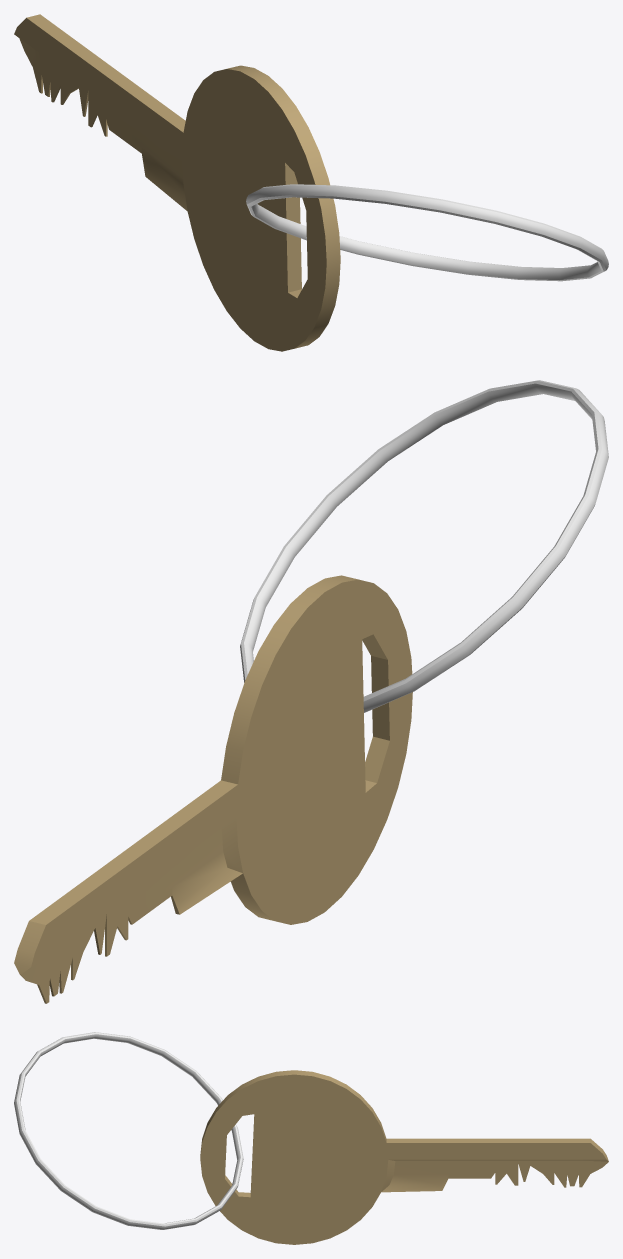
Rendered from chave.fbx.
3 renders of one model, top to bottom at view 1: azimuth 30°, elevation 25°; view 2: azimuth 150°, elevation 25°; view 3: azimuth 270°, elevation 25°, orthographic. The views are drawn at different scales.
Parts seen in each view (by area): view 1: Circle; view 2: Circle; view 3: Circle.
Part boxes in pixels (x1,y1,x2,y2): Circle: (14, 14, 608, 351); Circle: (14, 380, 608, 1003); Circle: (14, 1032, 608, 1244).
Bounding box in the file's own units: 15.41 × 15.12 × 43.16.
